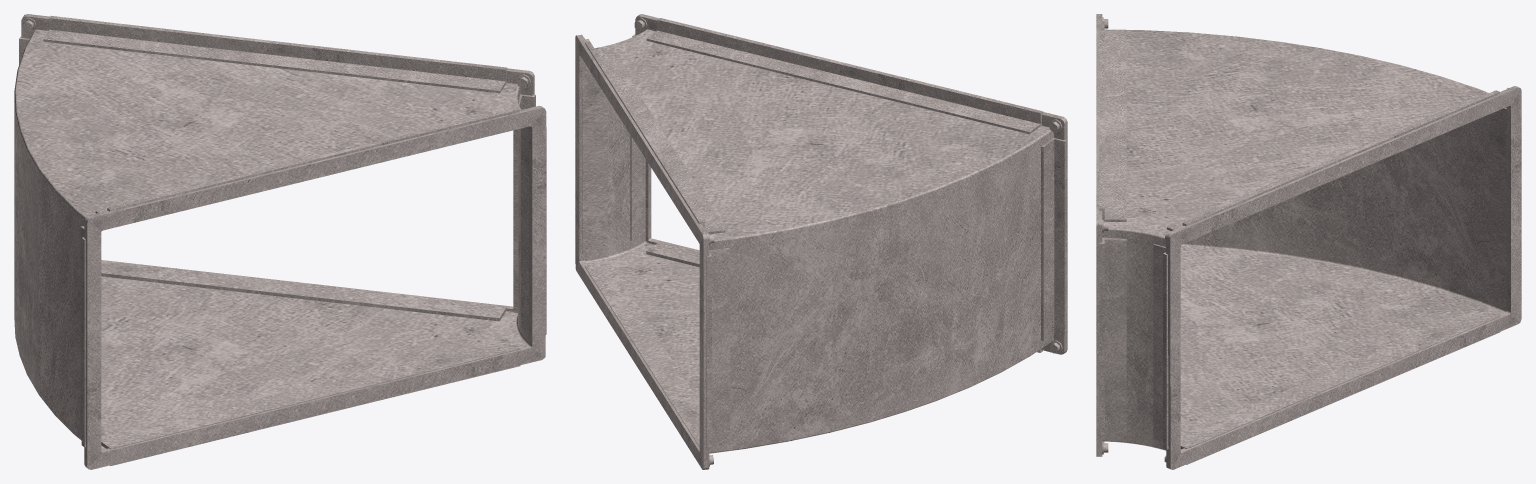
File: SM_Square_Ducting_01h.glb
3 views of the same model, side by side, from view 1: azimuth 30°, elevation 25°; view 2: azimuth 150°, elevation 25°; view 3: azimuth 270°, elevation 25° (orthographic). The views are drawn at different scales.
Visible parts, largest first — view 1: SM_Square_Ducting_01h; view 2: SM_Square_Ducting_01h; view 3: SM_Square_Ducting_01h.
Boxes of the visible parts, <box> form: SM_Square_Ducting_01h: <box>14,14,546,469</box>; SM_Square_Ducting_01h: <box>575,14,1067,469</box>; SM_Square_Ducting_01h: <box>1096,14,1521,469</box>.
Size of the model in its own units: 1.12 by 0.5617 by 0.8996.
Materials: 1 (1 with a texture image).
